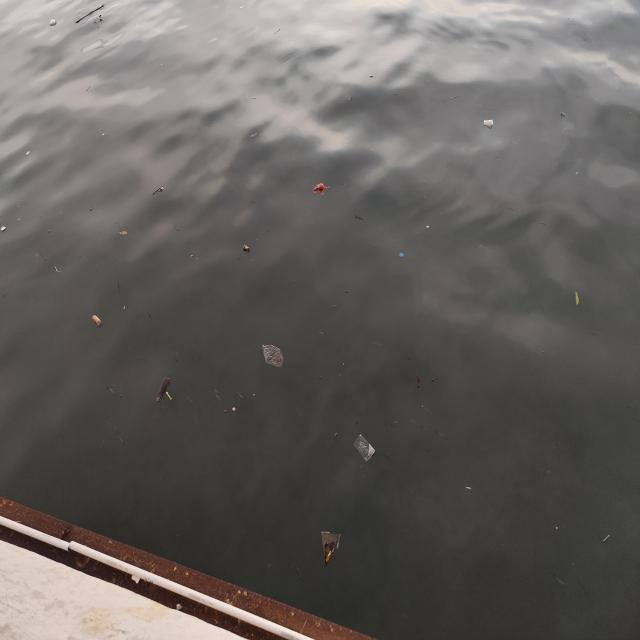Botol Plastik: (91, 312, 103, 328)
Bungkus Minuman: (241, 243, 255, 255)
Kantong Plastik: (354, 435, 380, 465), (262, 344, 287, 371), (314, 183, 330, 201)
